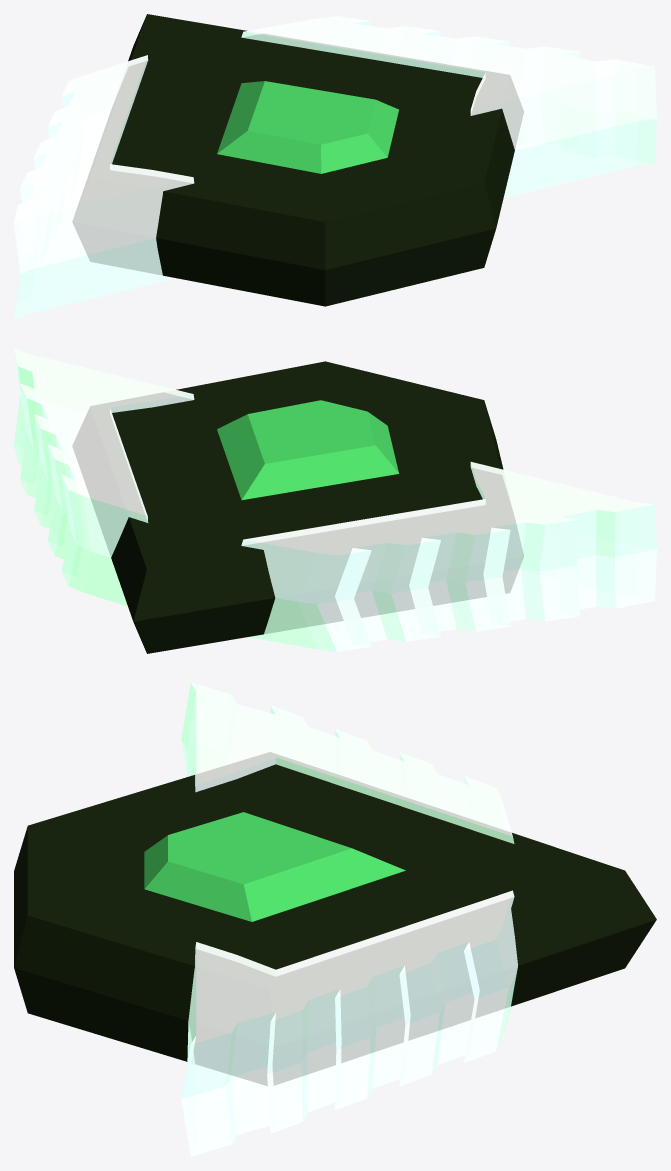
Rendered from green.fbx.
3 views of the same model, one above another, from view 1: azimuth 30°, elevation 25°; view 2: azimuth 150°, elevation 25°; view 3: azimuth 270°, elevation 25° (orthographic). The views are drawn at different scales.
Parts seen in each view (by area): view 1: Cube, Cube.001; view 2: Cube, Cube.001; view 3: Cube, Cube.001.
Boxes of the visible parts, x1,y1,x2,y2 form: Cube: (73, 14, 523, 306); Cube.001: (14, 16, 656, 319); Cube: (73, 361, 523, 653); Cube.001: (14, 348, 656, 651); Cube: (14, 752, 656, 1085); Cube.001: (181, 682, 517, 1156).
Size of the model in its own units: 181 by 29.6 by 136.
